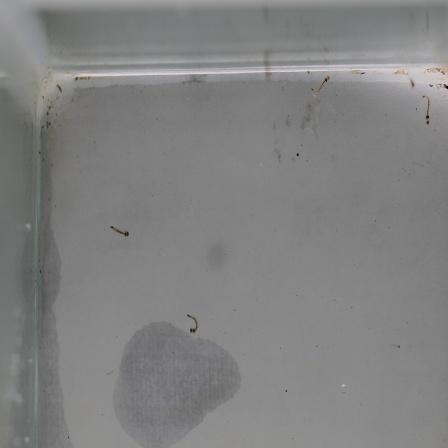Jentik-Nyamuk: (179, 308, 205, 340), (417, 89, 435, 129), (104, 221, 135, 242), (309, 72, 333, 97)
